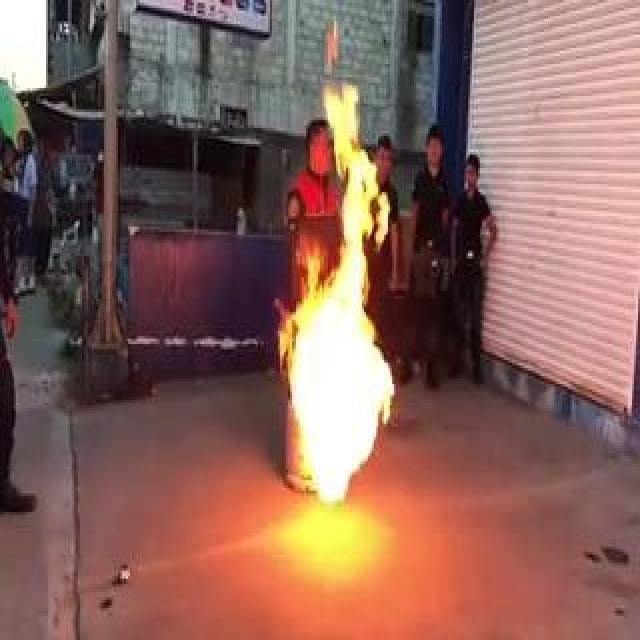Fire: (275, 76, 389, 500)
